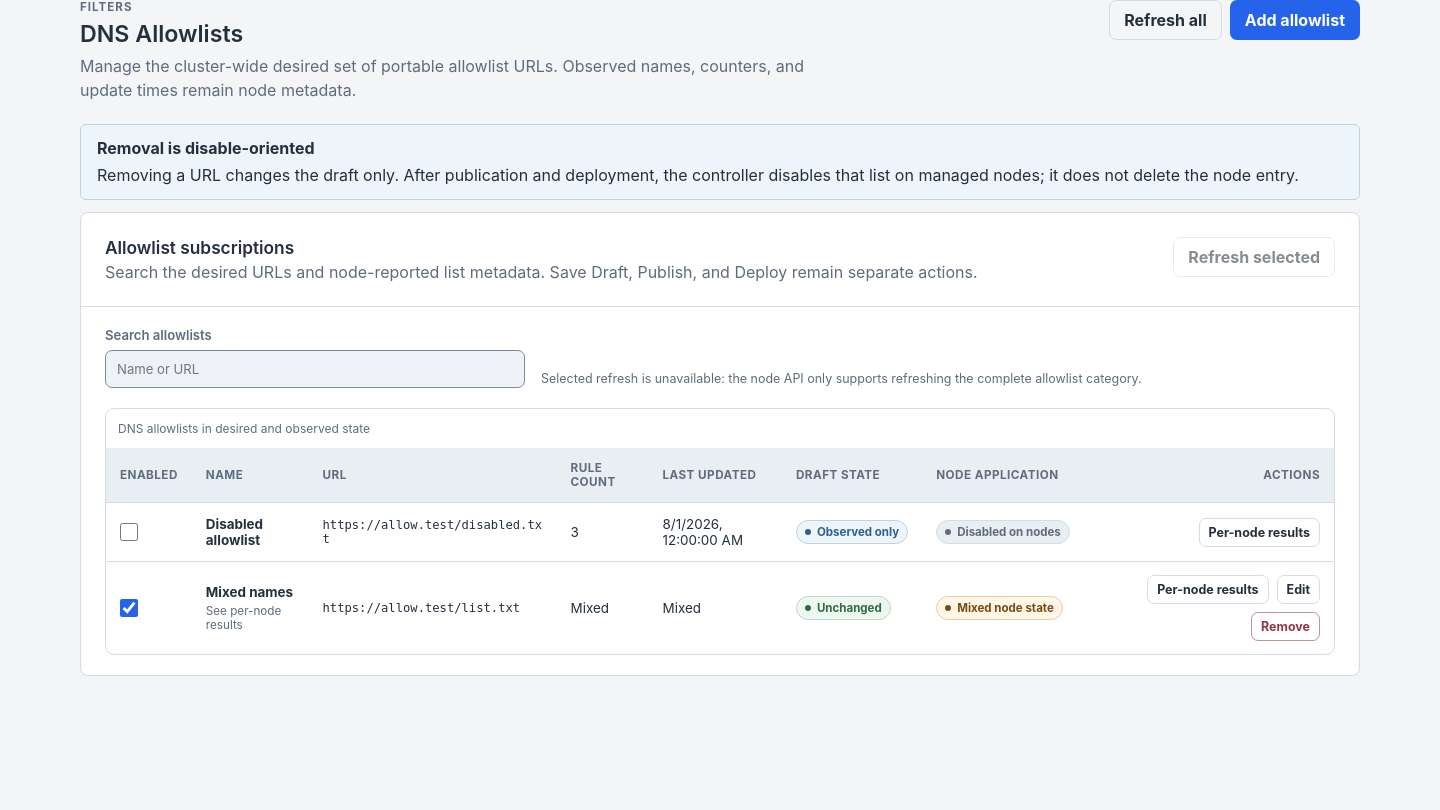
Test: DNS allowlists page › uses the row switch for confirmed enable-disable draft semantics
Click the checkbox named "Disable Primary allowlist" below "Mixed names".
click(129, 608)  # box [120,599,138,617]
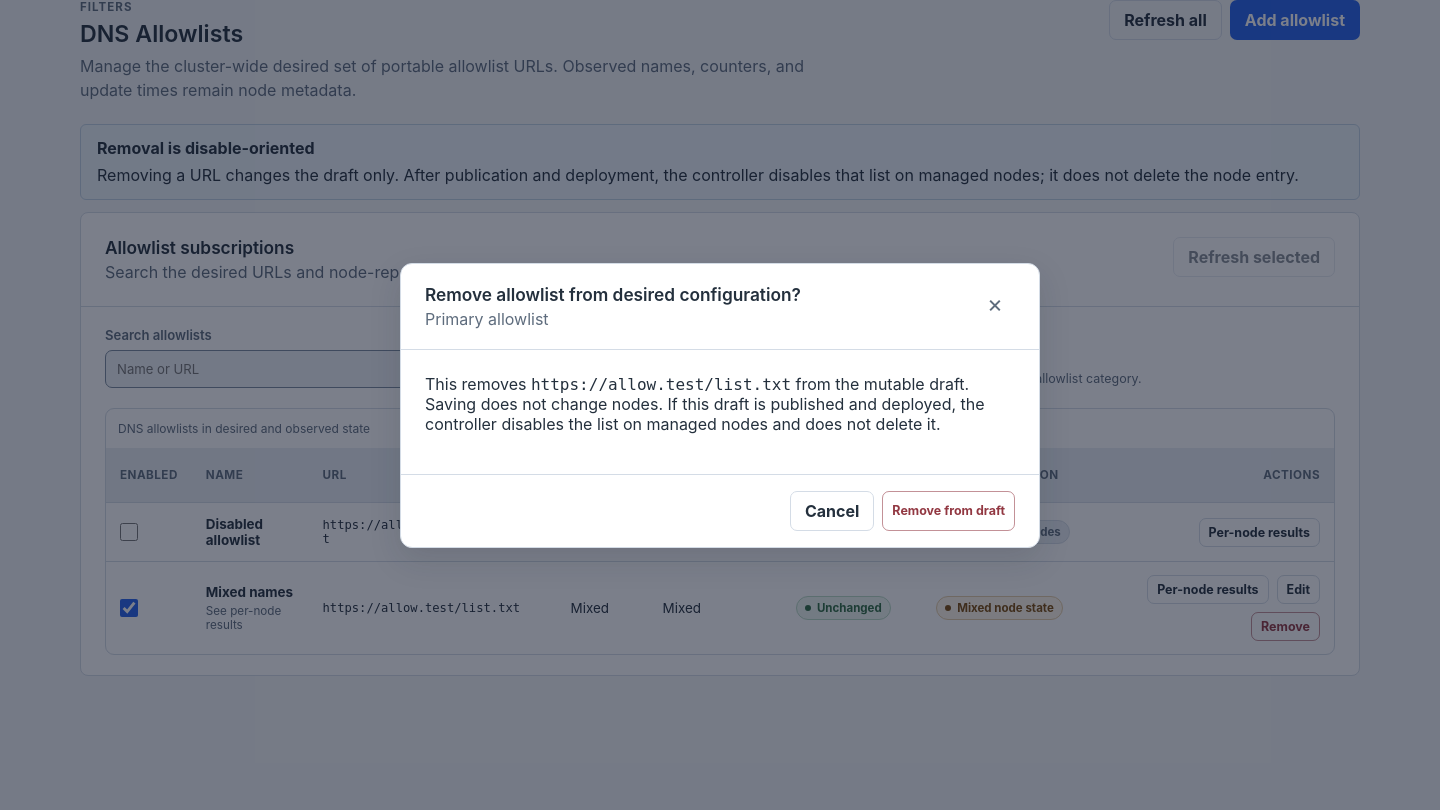
Result: the heading "Remove allowlist from desired configuration?" is shown at [425,284,801,304]
Click the button "Remove from draft".
click(949, 510)  # box [882,490,1015,530]
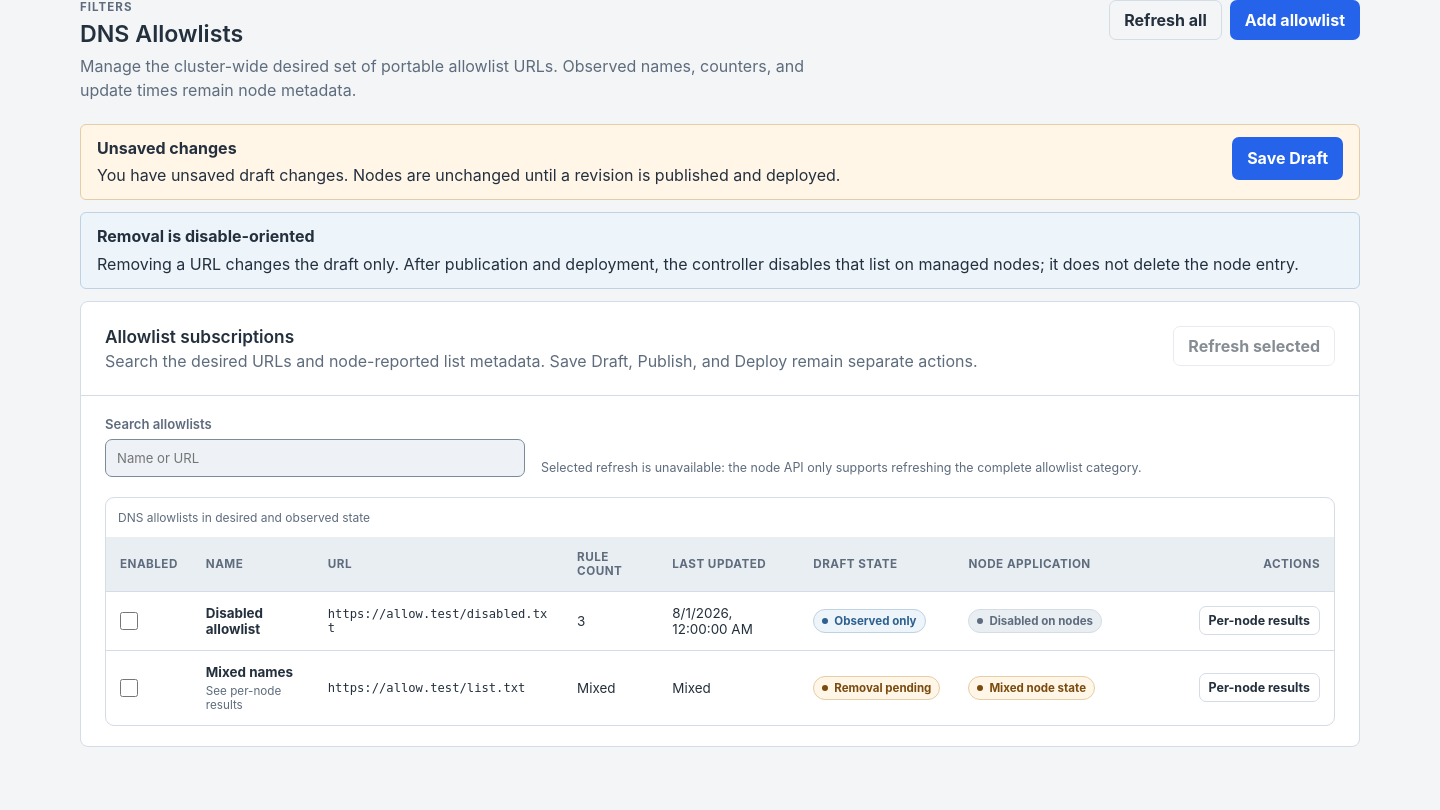
Result: the text "Removal pending" is shown at [813,676,940,700]
Result: the text "Unsaved changes" is shown at [97,138,237,158]
